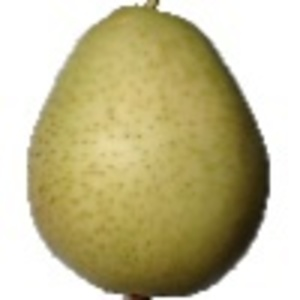pera: (25, 1, 270, 300)
